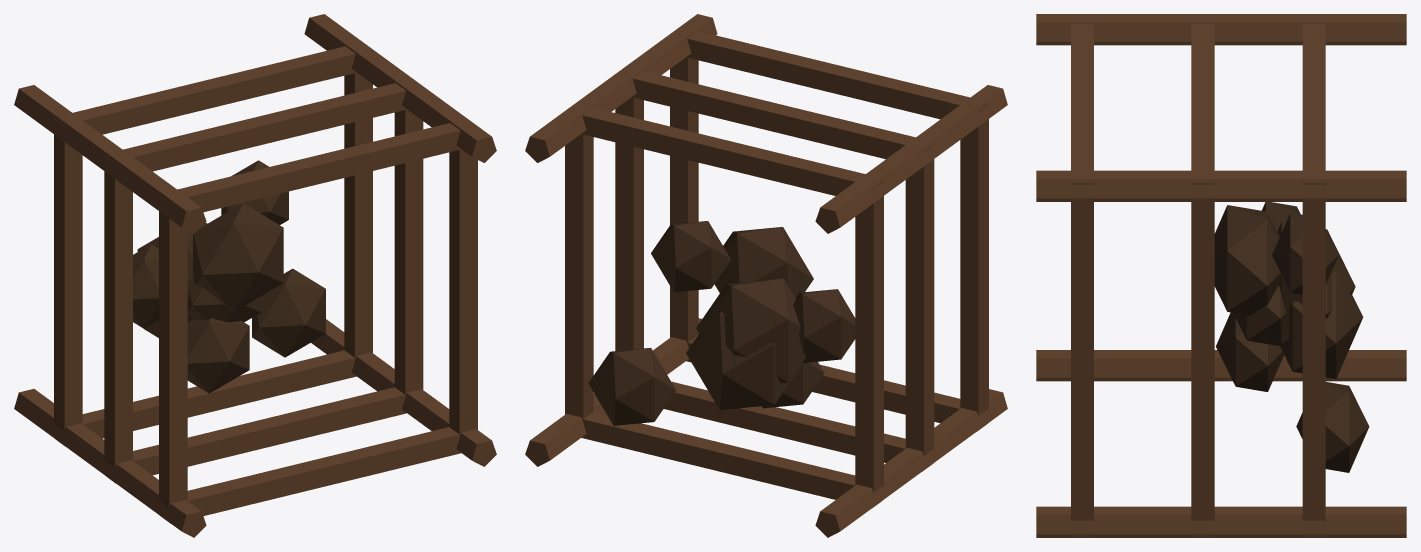
File: compost_bin.obj
3 views of the same model, side by side, from view 1: azimuth 30°, elevation 25°; view 2: azimuth 150°, elevation 25°; view 3: azimuth 270°, elevation 25° (orthographic). The views are drawn at different scales.
Parts seen in each view (by area): view 1: compost_bin; view 2: compost_bin; view 3: compost_bin.
Part boxes in pixels (box(x1,y1,x2,y2)): compost_bin: box(14, 14, 496, 537); compost_bin: box(525, 14, 1007, 537); compost_bin: box(1036, 14, 1406, 537).
Size of the model in its own units: 0.4342 by 0.4326 by 0.4.
